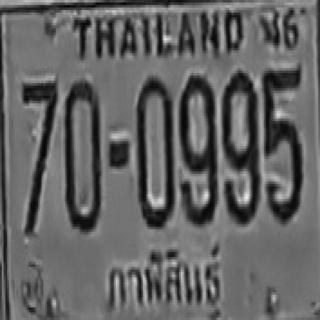N00: (136, 76, 173, 227), (64, 79, 100, 231)
N05: (262, 67, 300, 220)
N07: (21, 81, 57, 229), (21, 80, 57, 202), (21, 81, 57, 171)
N09: (220, 68, 258, 222), (179, 73, 215, 222)
P15: (100, 239, 225, 316)
